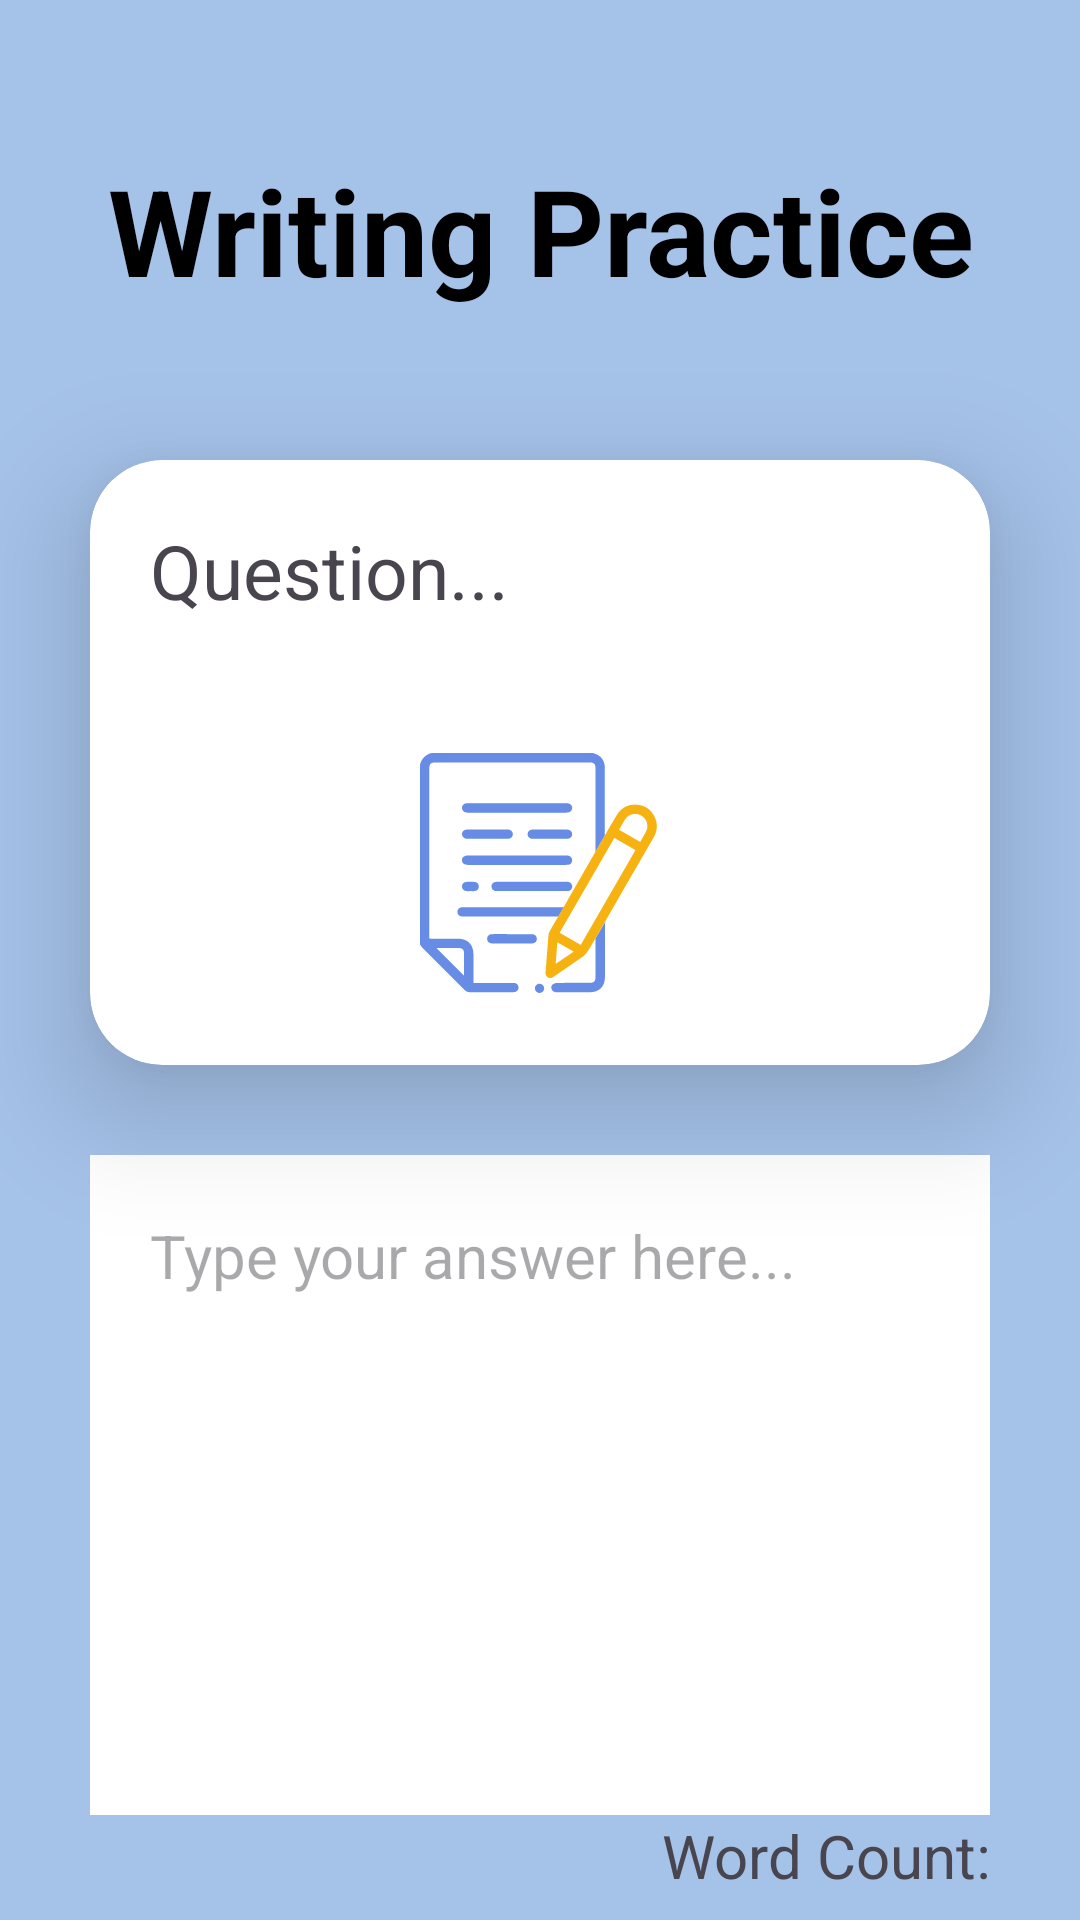

Point at icon controls on the screen. Image size 1080 × 1920, points as (x=x, y=y).
writing: (x=538, y=873)
